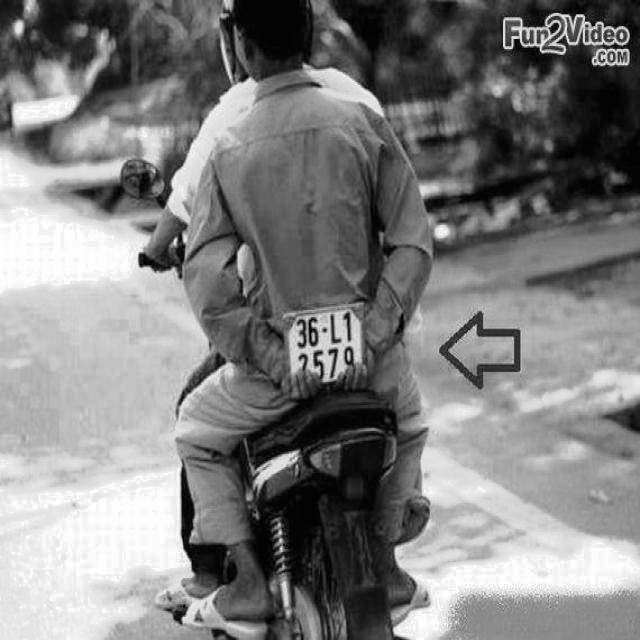Bike: (119, 159, 458, 640)
